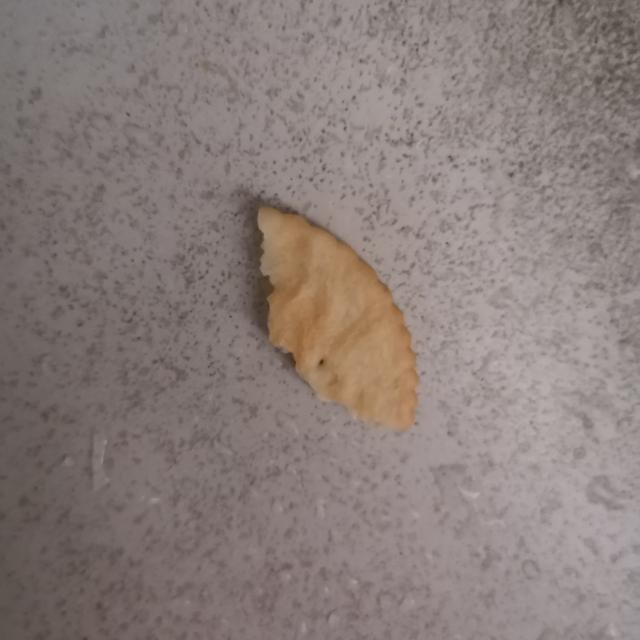Broken: (255, 204, 420, 432)
